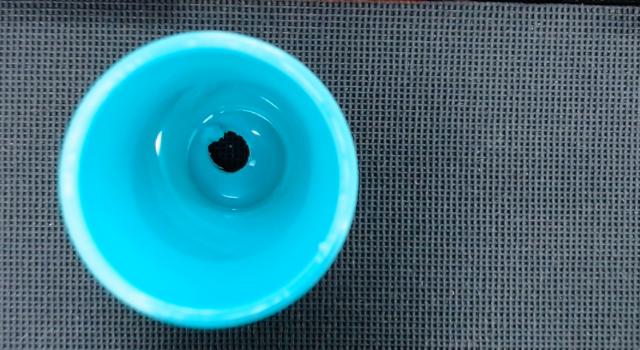hole: (208, 130, 250, 172)
